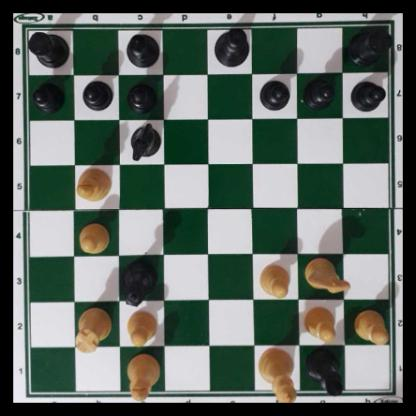black-bishop: (306, 348, 344, 395), (123, 33, 161, 68)
black-king: (212, 26, 250, 67)
black-knight: (128, 122, 161, 161)
black-pawn: (350, 78, 384, 112), (259, 77, 289, 110), (32, 80, 63, 111), (304, 76, 334, 108), (82, 79, 111, 111), (127, 80, 156, 112)
black-queen: (122, 257, 159, 309)
black-rook: (24, 28, 69, 68), (348, 26, 392, 65)
white-bishop: (126, 353, 160, 401), (75, 167, 111, 201)
white-king: (257, 348, 297, 403)
white-knight: (304, 256, 351, 294)
white-pawn: (303, 305, 337, 344), (353, 308, 388, 343), (126, 309, 157, 347), (259, 262, 291, 298), (77, 221, 110, 253)
white-rook: (74, 304, 112, 353)
